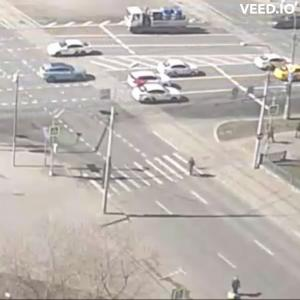car: (124, 6, 196, 37), (133, 84, 187, 105), (42, 64, 92, 84), (48, 42, 100, 60), (163, 63, 205, 80), (128, 70, 163, 90), (272, 16, 300, 32), (258, 53, 290, 67), (277, 65, 300, 83)
